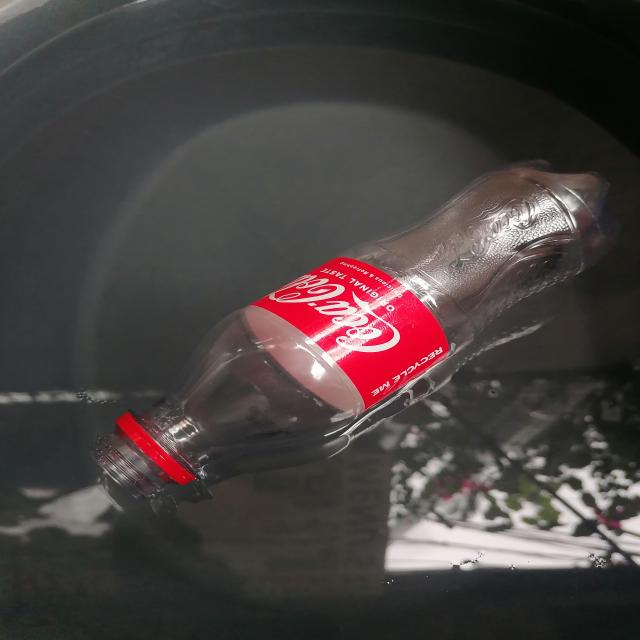Plastic Bottle: (97, 161, 611, 513)
